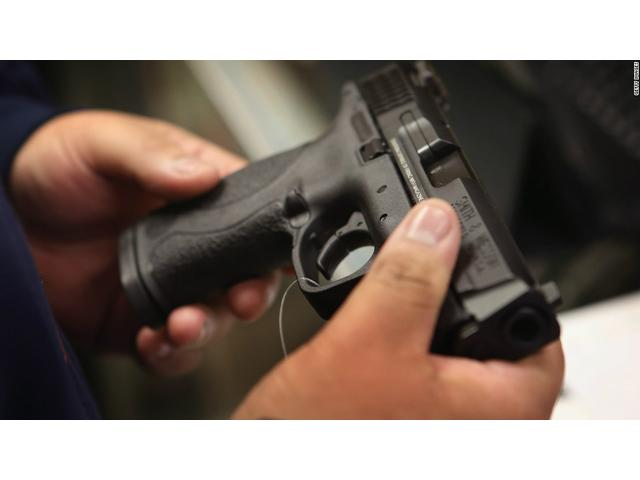pistol: (113, 61, 566, 364)
